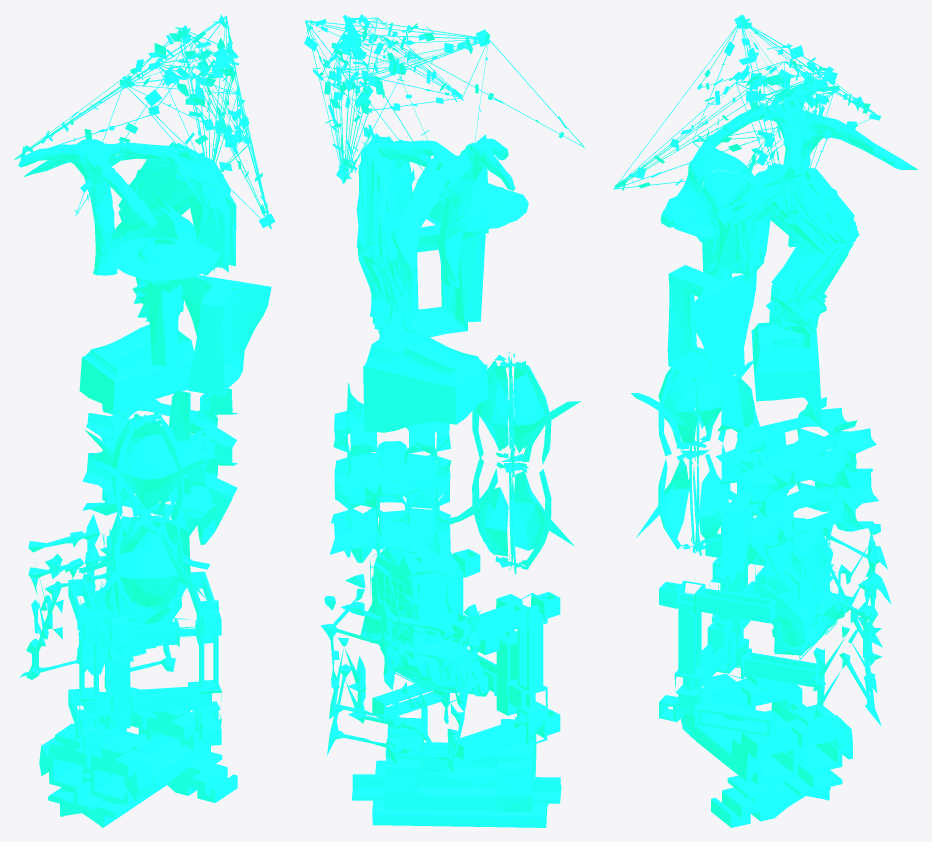
The model's file is DIP33JS.glb.
The picture shows the model from 3 angles, left to right: view 1: azimuth 30°, elevation 25°; view 2: azimuth 150°, elevation 25°; view 3: azimuth 270°, elevation 25°; orthographic projection. The views are drawn at different scales.
Parts seen in each view (by area): view 1: Crystal.002; view 2: Crystal.002; view 3: Crystal.002.
Boxes of the visible parts, x1,y1,x2,y2 form: Crystal.002: (14, 14, 275, 827); Crystal.002: (304, 14, 584, 827); Crystal.002: (613, 14, 917, 827).
Size of the model in its own units: 7 by 23.9 by 8.61.
